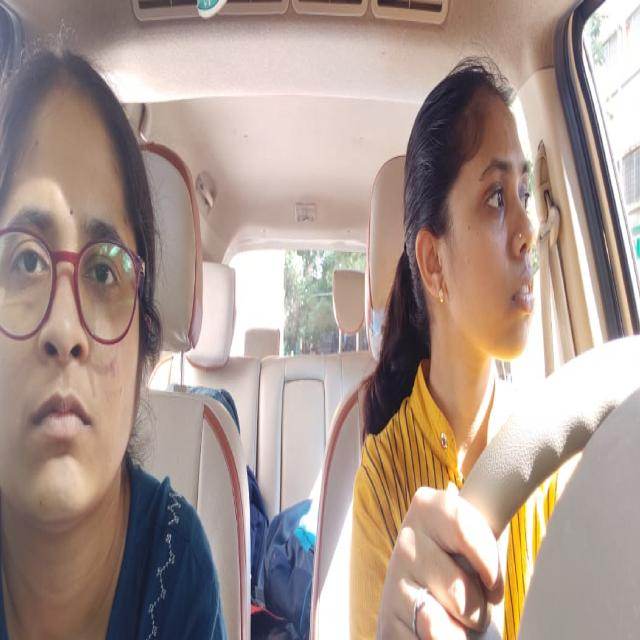LeftRight: (403, 72, 543, 361)
person: (0, 45, 150, 512)
